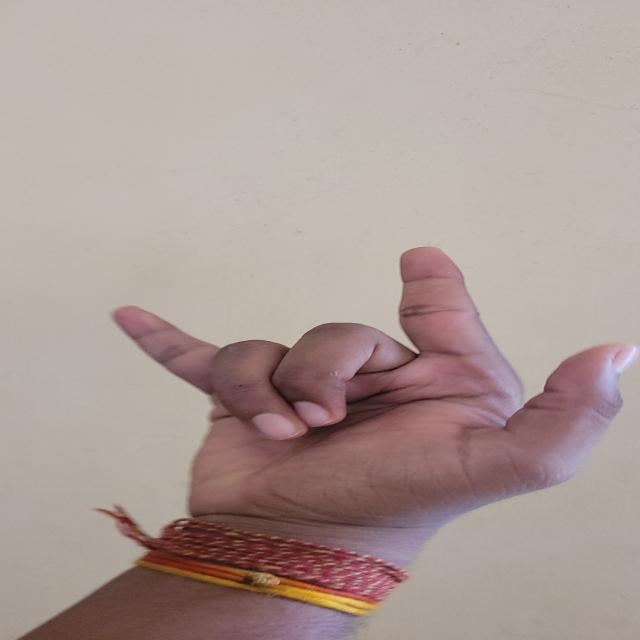i like you: (83, 255, 619, 534)
